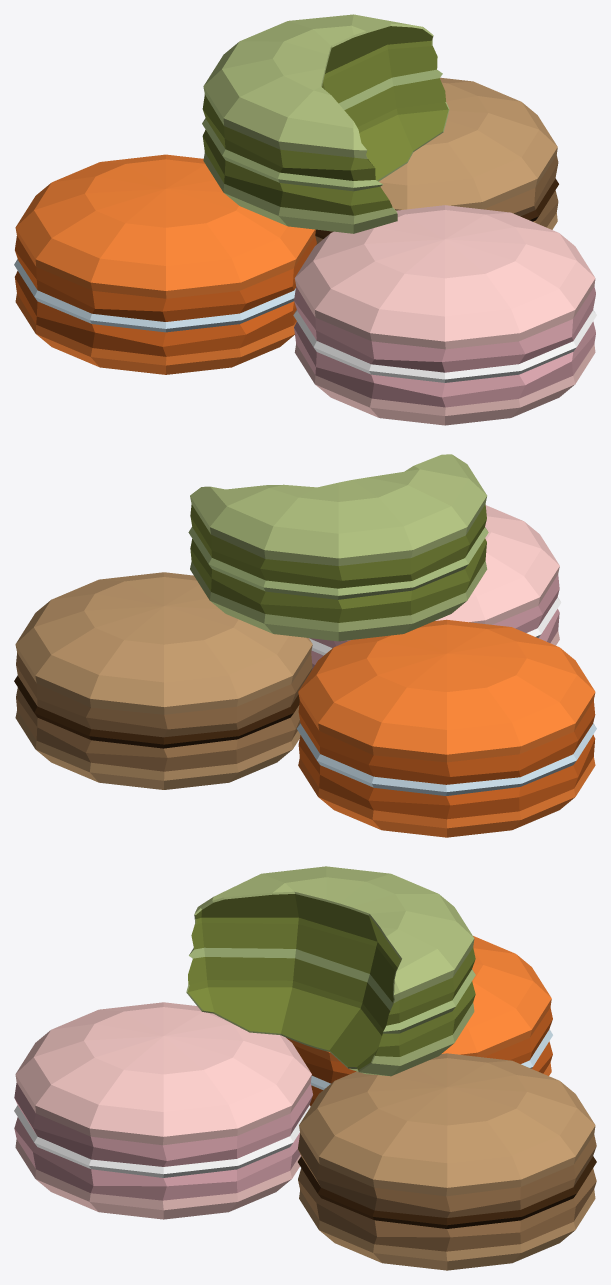
The model's file is MakaronState1.fbx.
3 renders of one model, top to bottom at view 1: azimuth 30°, elevation 25°; view 2: azimuth 150°, elevation 25°; view 3: azimuth 270°, elevation 25°, orthographic.
Visible parts, largest first — view 1: MakaronState1; view 2: MakaronState1; view 3: MakaronState1.
Part boxes in pixels (x1,y1,x2,y2): MakaronState1: (14,14,596,425); MakaronState1: (14,454,596,837); MakaronState1: (14,866,596,1270).
Bounding box in the file's own units: 113 × 56.09 × 110.
